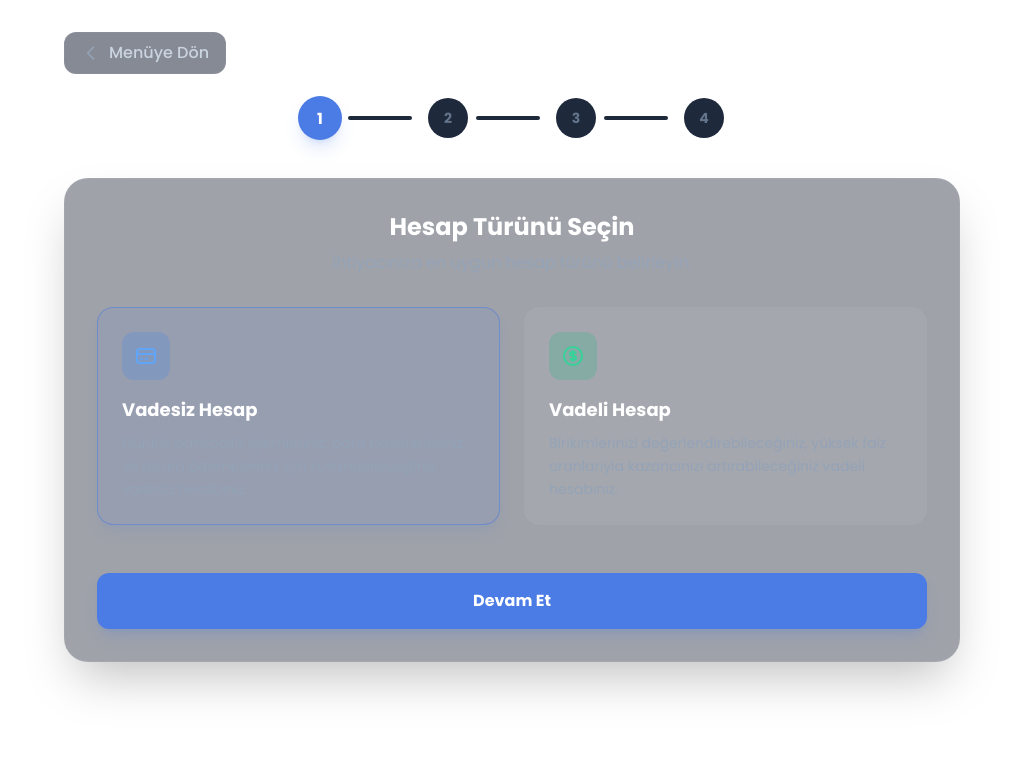
Scenario: banking › offers no currency the system has no rate for
This screenshot has width=1024, height=768.
Click the button "Devam Et". click: (512, 601)
box: [97,573,927,629]
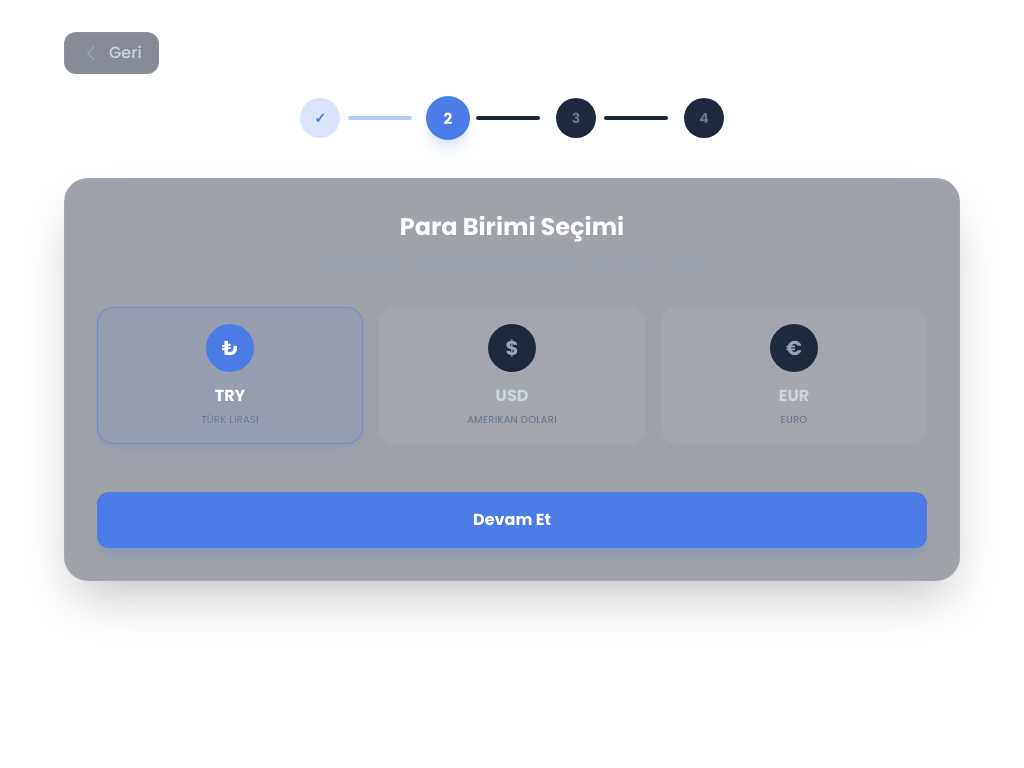
Expected: the text "Türk Lirası" is shown, [201,412,259,427]
